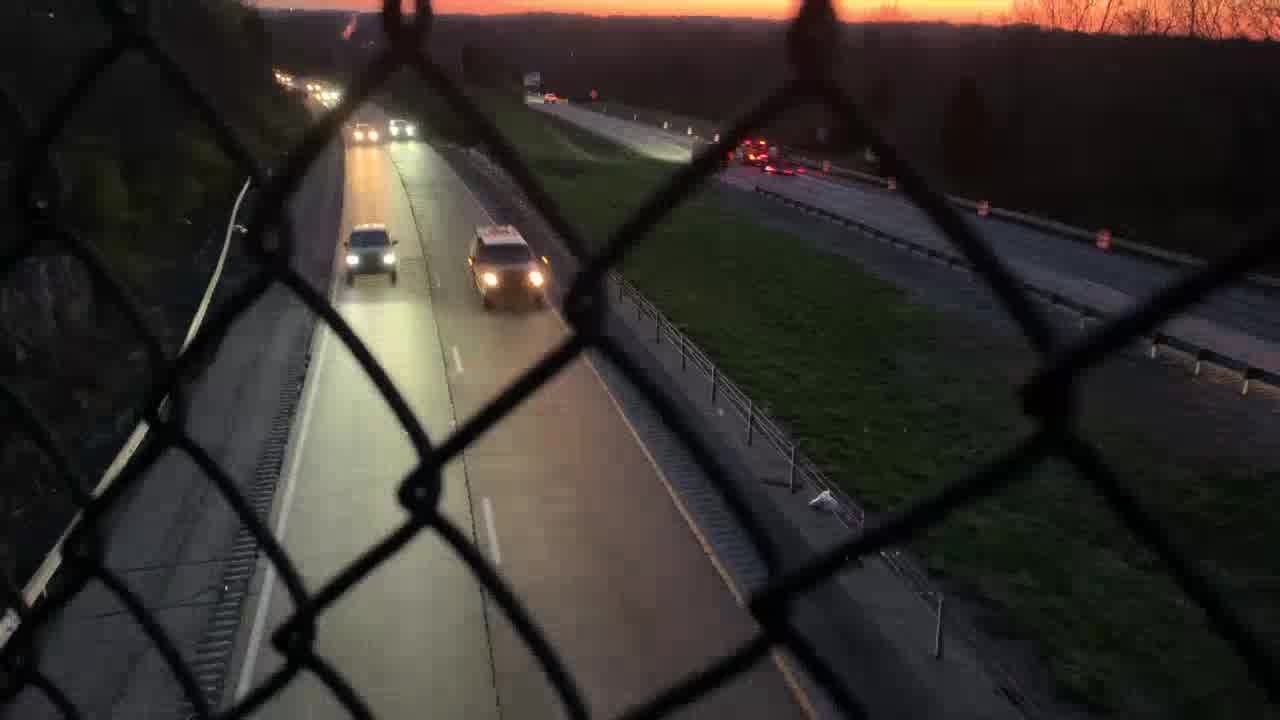largeCar: (463, 226, 553, 312)
lightTruck: (334, 223, 411, 289)
